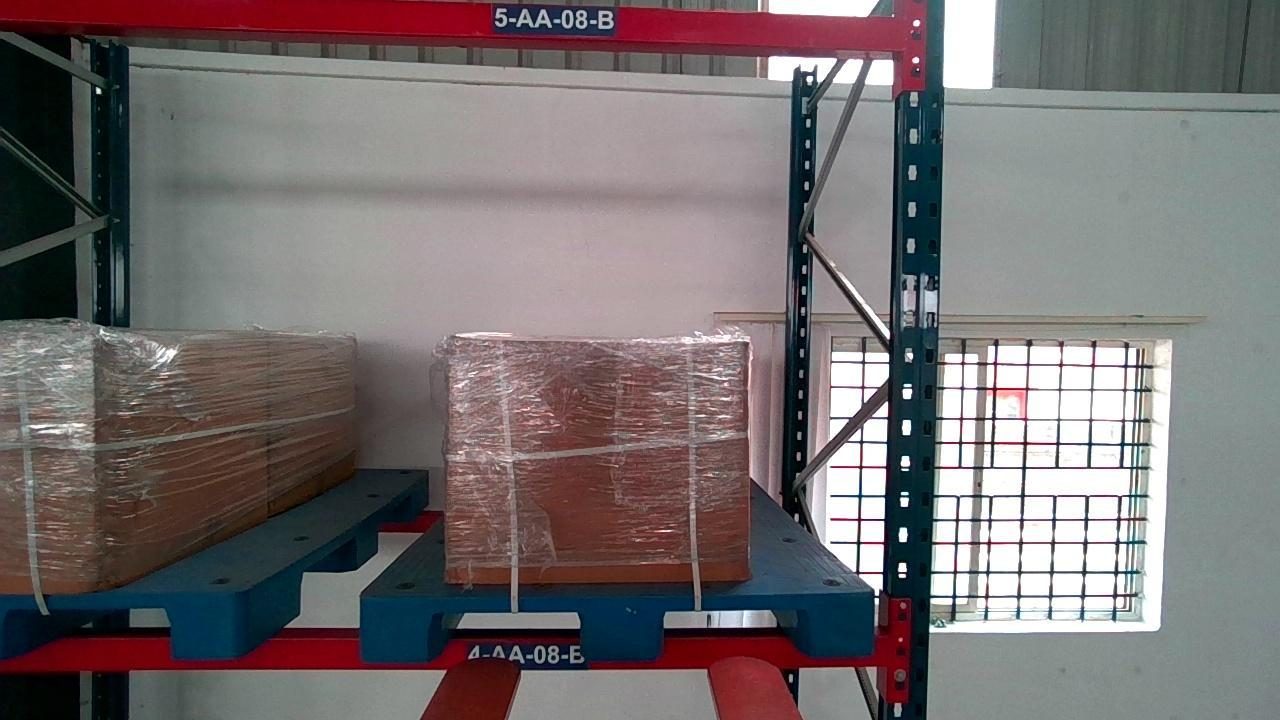h_rack: (4, 629, 902, 668)
small_pallet: (364, 594, 871, 656)
